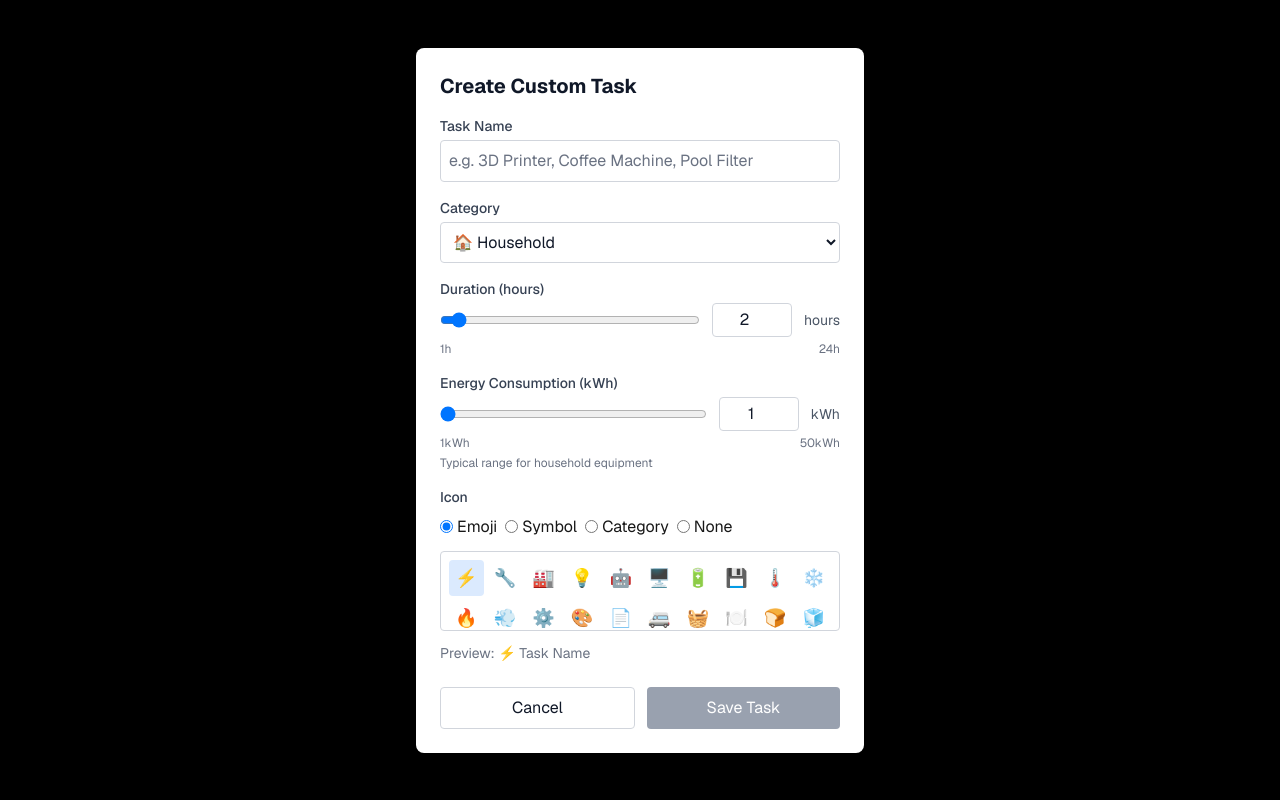
it: CustomTaskModal › User Interactions › should handle emoji selection
The image size is (1280, 800).
Click the button "🔧" at (505,578), box [488, 560, 522, 596]
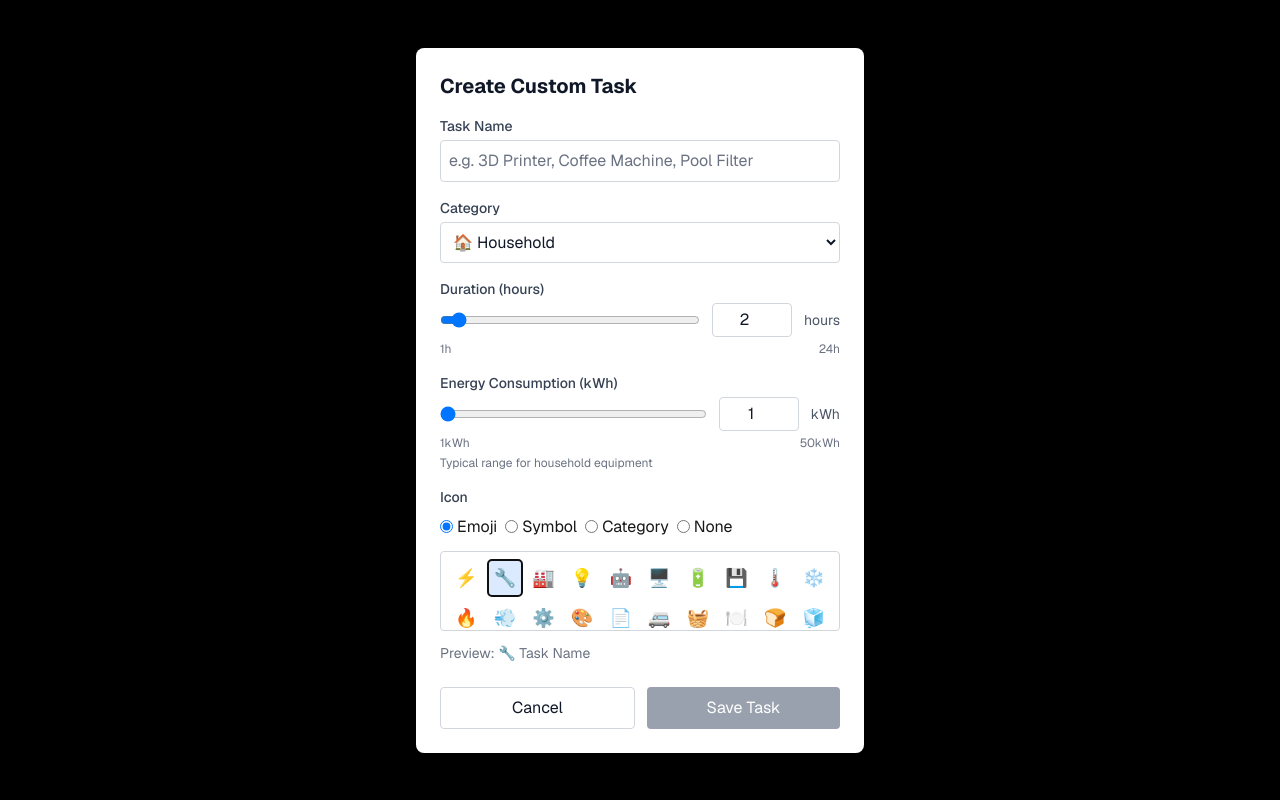
Expected: the text "Preview: 🔧 Task Name" is shown, [440, 644, 590, 662]
